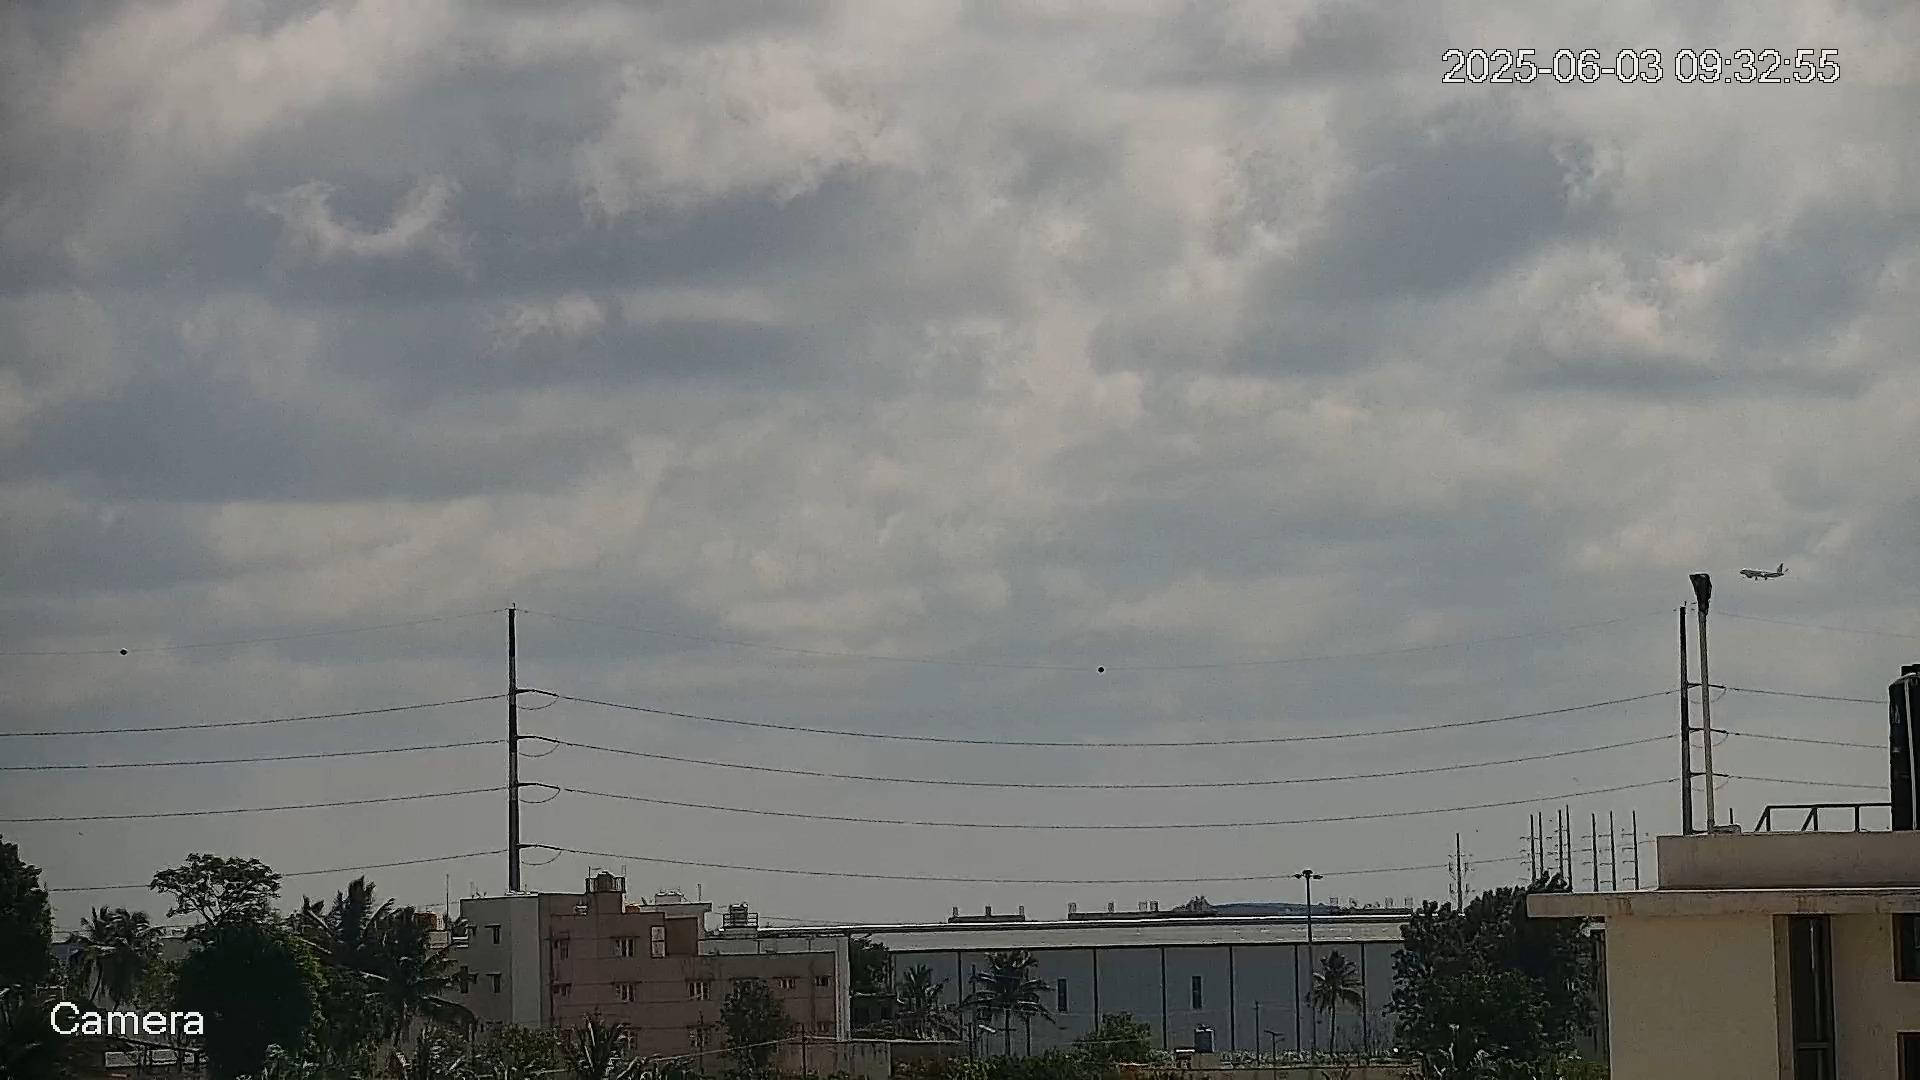Aircraft: (1739, 564, 1789, 583)
